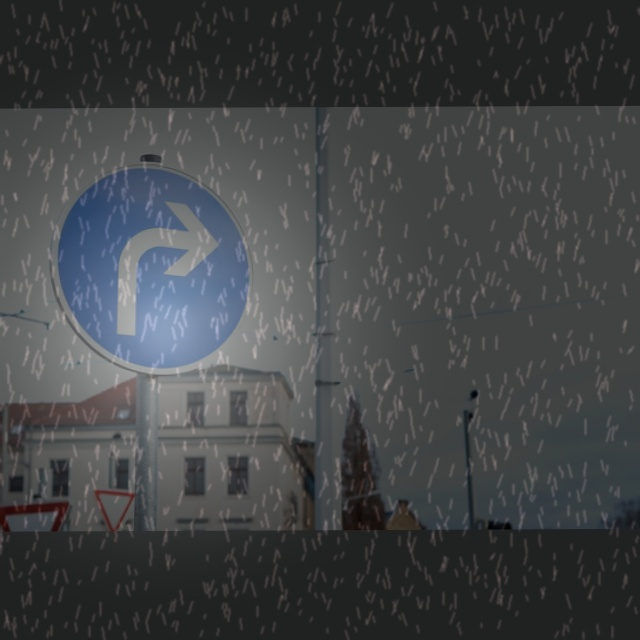Compulsory_Turn_Right_Ahead: (53, 161, 248, 377)
